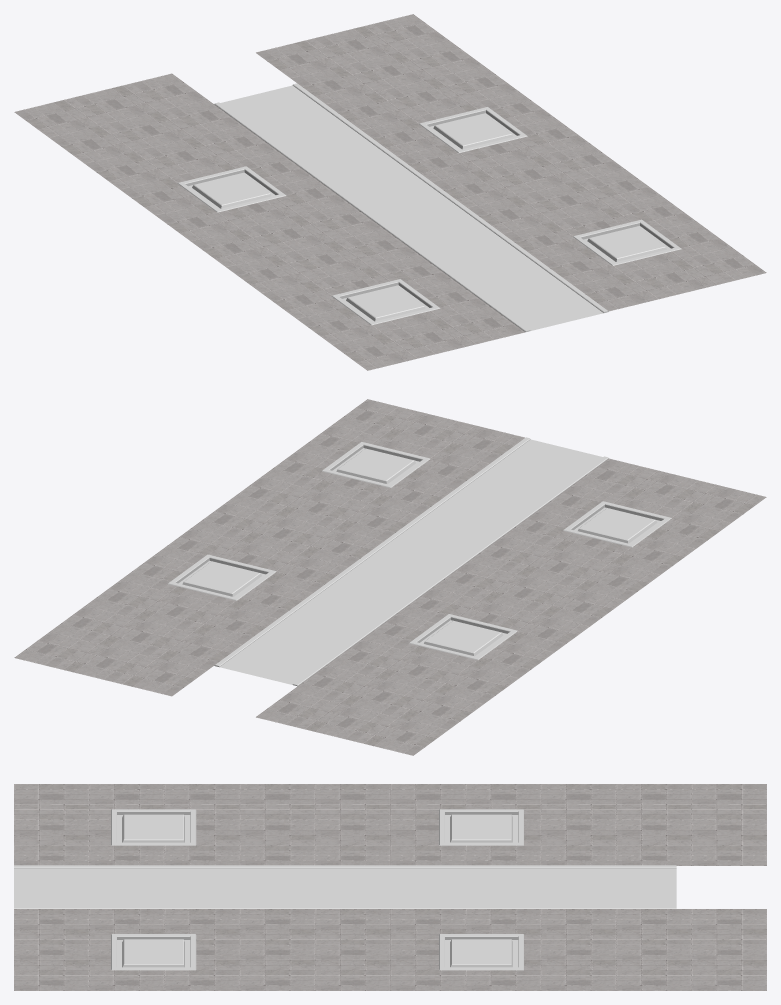
The model's file is Boss01_M_floor.FBX.
3 views of the same model, one above another, from view 1: azimuth 30°, elevation 25°; view 2: azimuth 150°, elevation 25°; view 3: azimuth 270°, elevation 25° (orthographic). The views are drawn at different scales.
Visible parts, largest first — view 1: Boss01_M_floor_000, Boss01_M_floor_001, Boss01_M_floor_rode, Boss01_M_floor_deco_003 (×2), Object088, Boss01_M_floor_deco_000, Boss01_M_floor_deco_001; view 2: Boss01_M_floor_000, Boss01_M_floor_001, Boss01_M_floor_rode, Boss01_M_floor_deco_003 (×2), Object088, Boss01_M_floor_deco_000, Boss01_M_floor_deco_001; view 3: Boss01_M_floor_000, Boss01_M_floor_001, Boss01_M_floor_rode, Boss01_M_floor_deco_003 (×2), Object088, Boss01_M_floor_deco_000, Boss01_M_floor_deco_001.
Part boxes in pixels (<box>): Boss01_M_floor_000: <box>14,73,524,370</box>; Boss01_M_floor_001: <box>256,14,766,311</box>; Boss01_M_floor_rode: <box>220,85,603,330</box>; Boss01_M_floor_deco_003 (×2): <box>419,107,681,265</box>; Object088: <box>214,83,608,332</box>; Boss01_M_floor_deco_000: <box>331,279,440,325</box>; Boss01_M_floor_deco_001: <box>177,166,286,212</box>; Boss01_M_floor_000: <box>256,458,766,755</box>; Boss01_M_floor_001: <box>14,399,524,696</box>; Boss01_M_floor_rode: <box>220,439,602,684</box>; Boss01_M_floor_deco_003 (×2): <box>168,442,429,600</box>; Object088: <box>214,437,608,686</box>; Boss01_M_floor_deco_000: <box>563,501,671,547</box>; Boss01_M_floor_deco_001: <box>409,614,517,660</box>; Boss01_M_floor_000: <box>14,784,766,865</box>; Boss01_M_floor_001: <box>14,909,766,990</box>; Boss01_M_floor_rode: <box>14,868,676,905</box>; Boss01_M_floor_deco_003 (×2): <box>111,934,523,970</box>; Object088: <box>14,865,676,908</box>; Boss01_M_floor_deco_000: <box>111,809,196,845</box>; Boss01_M_floor_deco_001: <box>439,809,523,845</box>.
Size of the model in its own units: 4043 by 37.2 by 6200.
